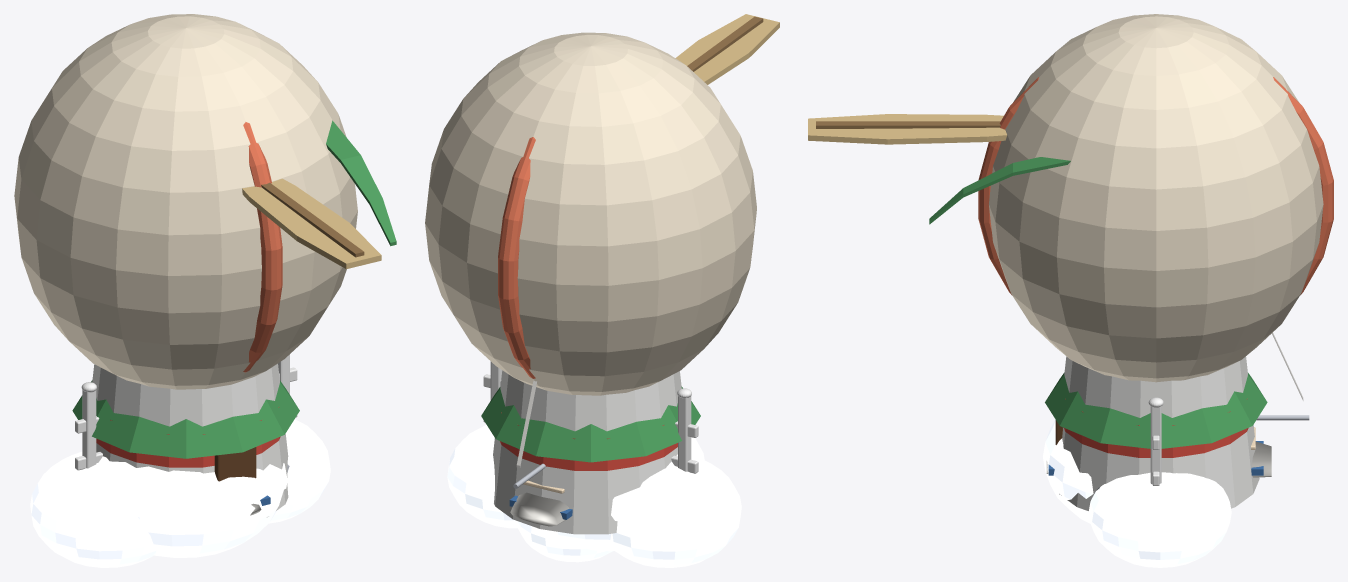
The model's file is props.glb.
3 views of the same model, side by side, from view 1: azimuth 30°, elevation 25°; view 2: azimuth 150°, elevation 25°; view 3: azimuth 270°, elevation 25° (orthographic). The views are drawn at different scales.
Parts seen in each view (by area): view 1: BalEnv, Cd-5_10, Cd-45_0, LhBody, PT1, Blade0, BalBand, Cd42_1, Frond0, LhStripe1, BladeBar0, LhDoor (+1 smaller); view 2: BalEnv, LhBody, Cd-45_0, PT1, BalBand, Cd42_1, Blade0, Cd-5_10, LhStripe1, Cd5_-12, Hull, Post0 (+1 smaller); view 3: BalEnv, LhBody, Cd42_1, PT1, Blade0, BalBand, Cd-5_10, LhStripe1, Frond0, BladeBar0, Post2.
Boxes of the visible parts, x1,y1,x2,y2 form: BalEnv: (14, 14, 357, 389); Cd-5_10: (98, 456, 287, 557); Cd-45_0: (30, 451, 156, 567); LhBody: (92, 363, 288, 517); PT1: (72, 380, 299, 458); Blade0: (242, 178, 381, 269); BalBand: (243, 122, 282, 372); Cd42_1: (269, 419, 330, 523); Frond0: (326, 120, 396, 246); LhStripe1: (96, 407, 280, 467); BladeBar0: (261, 182, 364, 257); LhDoor: (214, 447, 256, 481); BalEnv: (425, 32, 756, 395); LhBody: (493, 370, 681, 534); Cd-45_0: (610, 458, 741, 567); PT1: (481, 386, 700, 462); BalBand: (498, 137, 535, 378); Cd42_1: (447, 425, 518, 528); Blade0: (675, 14, 779, 84); Cd-5_10: (535, 437, 704, 551); LhStripe1: (500, 412, 677, 470); Cd5_-12: (517, 521, 612, 562); Hull: (510, 492, 568, 526); Post0: (678, 396, 691, 471); BalEnv: (989, 14, 1323, 382); LhBody: (1059, 356, 1259, 510); Cd42_1: (1088, 472, 1231, 567); PT1: (1045, 372, 1267, 448); Blade0: (808, 114, 1007, 144); BalBand: (978, 77, 1333, 295); Cd-5_10: (1043, 419, 1093, 523); LhStripe1: (1064, 398, 1248, 457); Frond0: (929, 157, 1070, 224); BladeBar0: (816, 121, 1000, 128); Post2: (1150, 406, 1161, 484).
Size of the model in its own units: 1.7 by 2.84 by 2.64.
